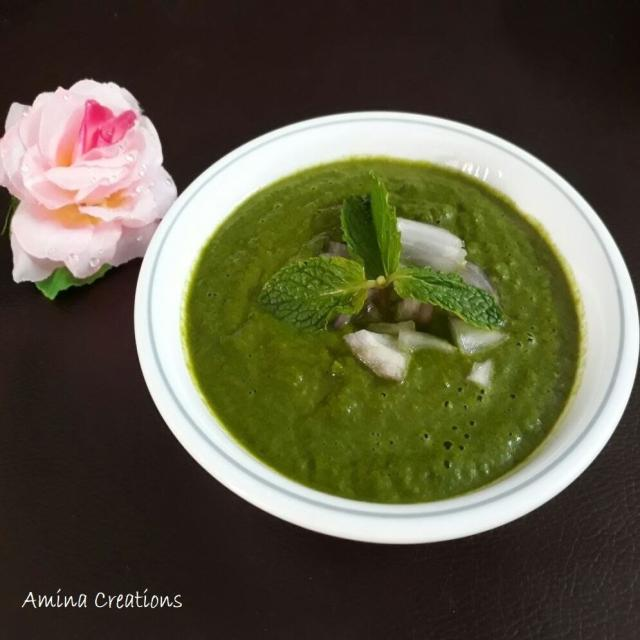puthina chutney: (172, 127, 588, 511)
